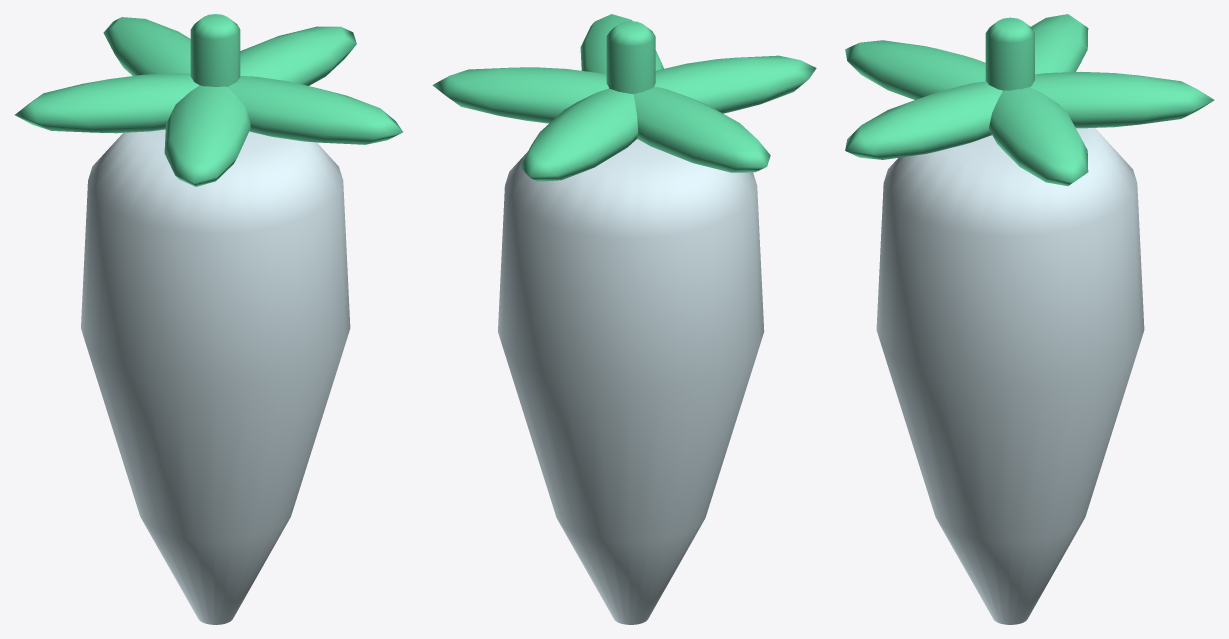
The model's file is radish.fbx.
3 views of the same model, side by side, from view 1: azimuth 30°, elevation 25°; view 2: azimuth 150°, elevation 25°; view 3: azimuth 270°, elevation 25° (orthographic).
Parts seen in each view (by area): view 1: radish; view 2: radish; view 3: radish.
Boxes of the visible parts, x1=… form: radish: x1=15, y1=14, x2=402, y2=624; radish: x1=432, y1=14, x2=816, y2=624; radish: x1=845, y1=14, x2=1214, y2=624.
Size of the model in its own units: 59.31 by 100 by 56.41.
Materials: 1 (1 with a texture image).
